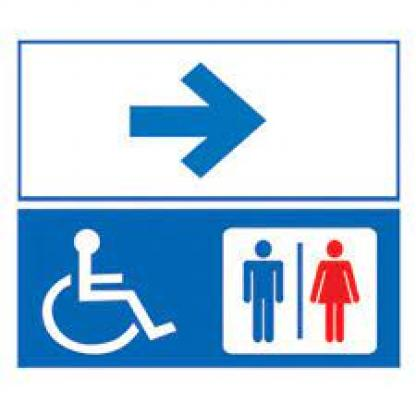toilet: (44, 226, 176, 355), (240, 238, 363, 344)
